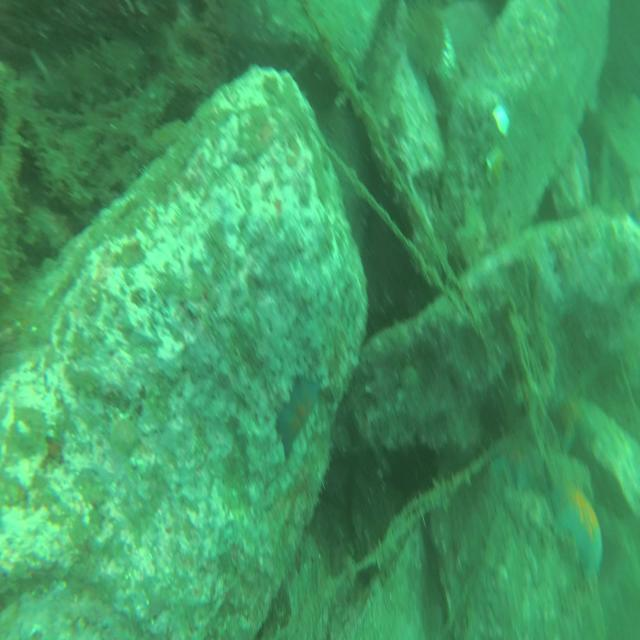echinus: (403, 0, 451, 80)
holothurian: (30, 28, 153, 108)
starfish: (550, 469, 605, 598), (276, 375, 324, 465), (548, 372, 598, 458), (494, 428, 544, 498)
